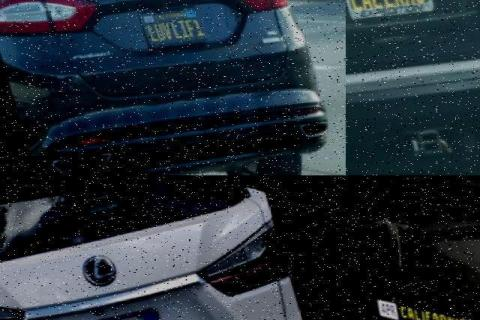LicensePlate: (349, 273, 480, 320), (345, 0, 445, 36), (137, 0, 213, 47), (77, 305, 179, 320)
